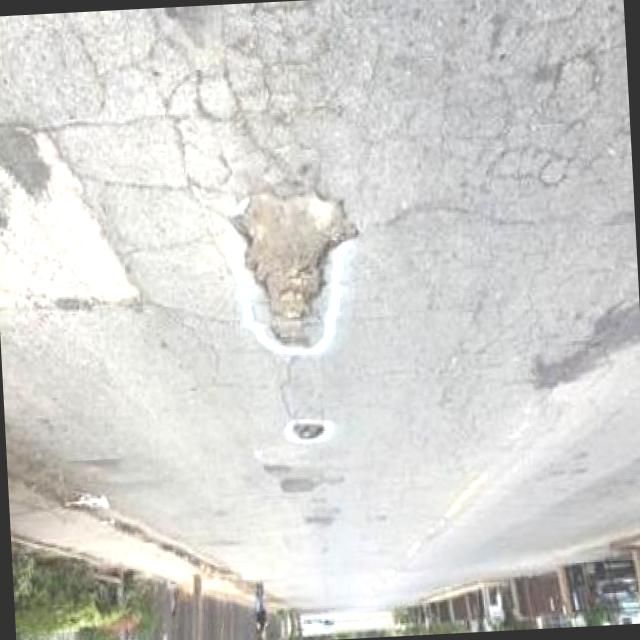pothole: (229, 186, 360, 354), (288, 420, 326, 448)
